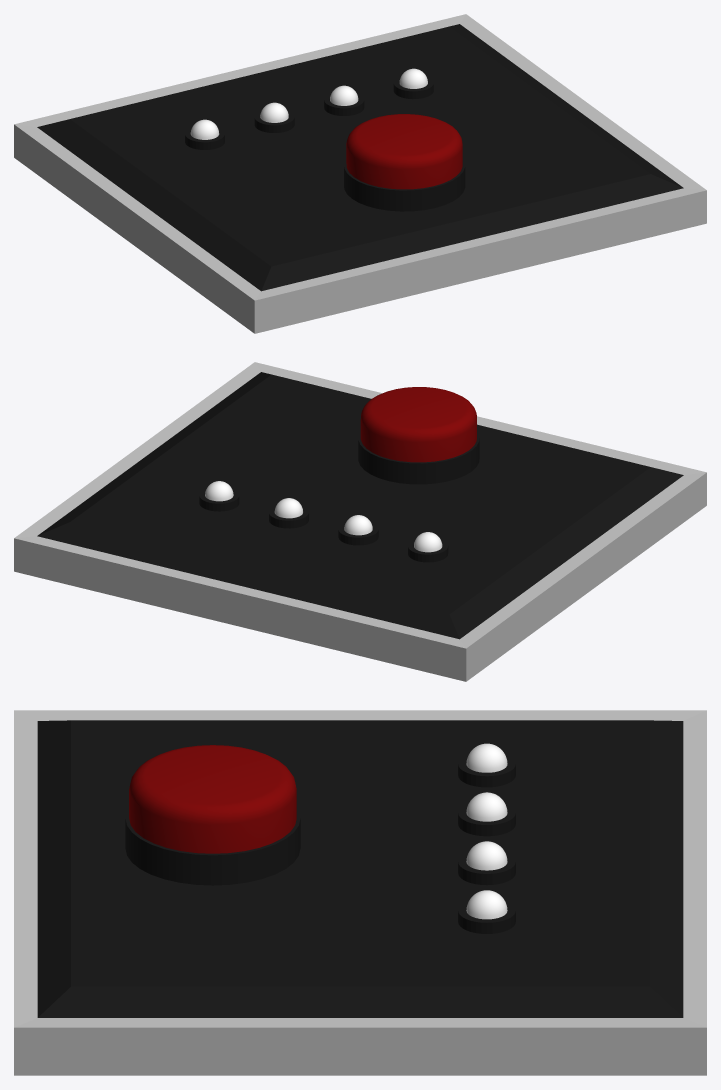
The model's file is bouttonPress.fbx.
3 renders of one model, top to bottom at view 1: azimuth 30°, elevation 25°; view 2: azimuth 150°, elevation 25°; view 3: azimuth 270°, elevation 25°, orthographic. The views are drawn at different scales.
Parts seen in each view (by area): view 1: Cube.003, Circle.001, Circle, Circle.007, Circle.005, Circle.003, Circle.009; view 2: Cube.003, Circle.001, Circle, Circle.005, Circle.007, Circle.009, Circle.003; view 3: Cube.003, Circle.001, Circle, Circle.009, Circle.007, Circle.003, Circle.005, Sphere.002, Sphere.003, Sphere.004, Sphere.001.
Part boxes in pixels (x1,y1,x2,y2): Cube.003: (14, 14, 706, 333); Circle.001: (346, 114, 462, 189); Circle: (344, 158, 465, 211); Circle.007: (254, 110, 294, 132); Circle.005: (393, 76, 433, 99); Circle.003: (324, 93, 364, 115); Circle.009: (185, 127, 224, 149); Cube.003: (14, 362, 706, 681); Circle.001: (360, 387, 476, 462); Circle: (358, 431, 479, 484); Circle.005: (199, 489, 239, 511); Circle.007: (338, 522, 378, 545); Circle.009: (408, 540, 448, 562); Circle.003: (269, 506, 308, 528); Cube.003: (14, 710, 706, 1075); Circle.001: (129, 745, 296, 853); Circle: (125, 808, 300, 885); Circle.009: (458, 754, 515, 787); Circle.007: (458, 803, 515, 836); Circle.003: (458, 852, 515, 885); Circle.005: (458, 901, 515, 933); Sphere.002: (466, 792, 507, 821); Sphere.003: (466, 841, 507, 870); Sphere.004: (466, 890, 507, 919); Sphere.001: (466, 743, 507, 772).
Bounding box in the file's own units: 1627 × 326 × 1500.
Materials: 1 (1 with a texture image).
